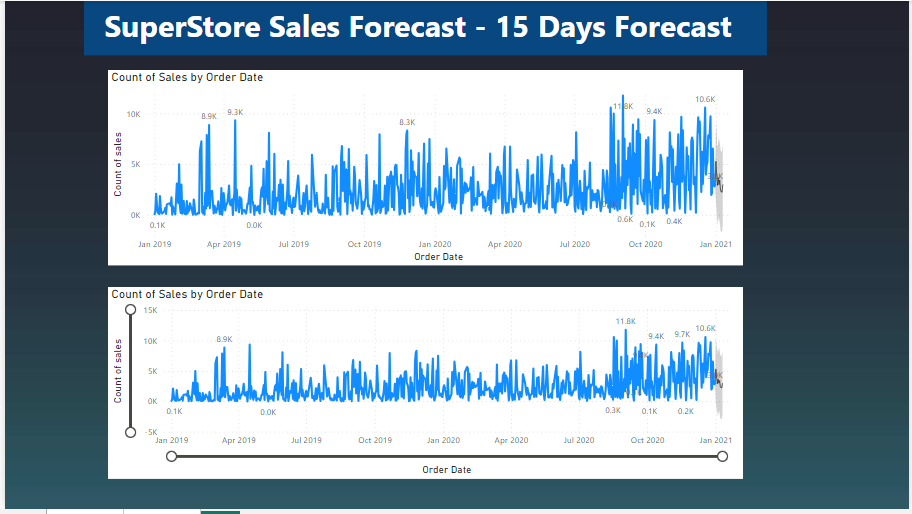

Layout of this report page (visuals, bound fields, positions):
{"tool":"powerbi","page":{"name":"Page 2","canvas":[1280,720],"ordinal":1},"visuals":[{"type":"textbox","box":[112.5,0,967.6,77.3],"z":0},{"type":"lineChart","title":"Count of Sales by Order Date","fields":{"Y":["Sum(Sheet1.Sales)"],"Category":["Sheet1.Order Date"]},"box":[146.1,97.4,900.4,277.2],"z":1000},{"type":"lineChart","title":"Count of Sales by Order Date","fields":{"Y":["Sum(Sheet1.Sales)"],"Category":["Sheet1.Order Date"]},"box":[146,405.4,900,272.1],"z":1001}]}

Visuals, with their boxes in screenshot pixels (x1, y1, x2, y2), scaled from the page's 1280x720 canvas onto the 912x514 screenshot:
textbox: bbox(80, 0, 770, 55)
"Count of Sales by Order Date" lineChart: bbox(104, 70, 746, 267)
"Count of Sales by Order Date" lineChart: bbox(104, 289, 745, 484)
